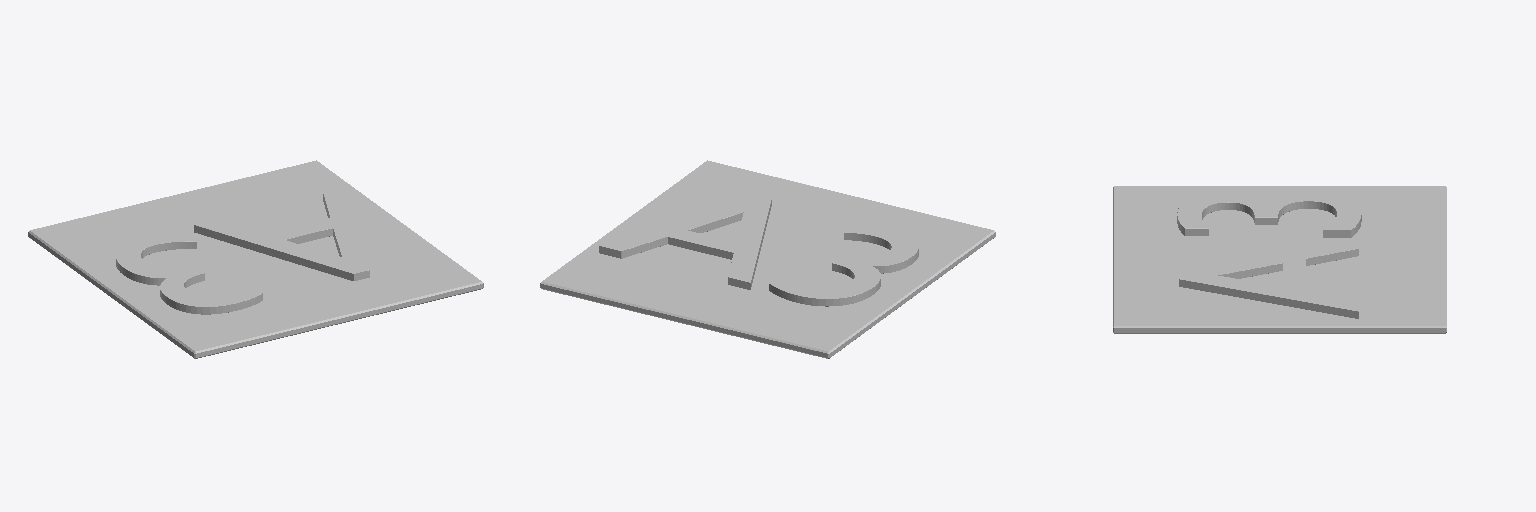
The model's file is panel_A3.obj.
3 renders of one model, left to right at view 1: azimuth 30°, elevation 25°; view 2: azimuth 150°, elevation 25°; view 3: azimuth 270°, elevation 25°, orthographic.
Parts seen in each view (by area): view 1: Plane, Text; view 2: Plane, Text; view 3: Plane, Text.
Part boxes in pixels (x1,y1,x2,y2): Plane: (28,160,483,358); Text: (116,188,369,314); Plane: (540,160,995,358); Text: (599,196,918,306); Plane: (1113,186,1446,333); Text: (1177,190,1361,318).
Bounding box in the file's own units: 4 × 0.2 × 4.